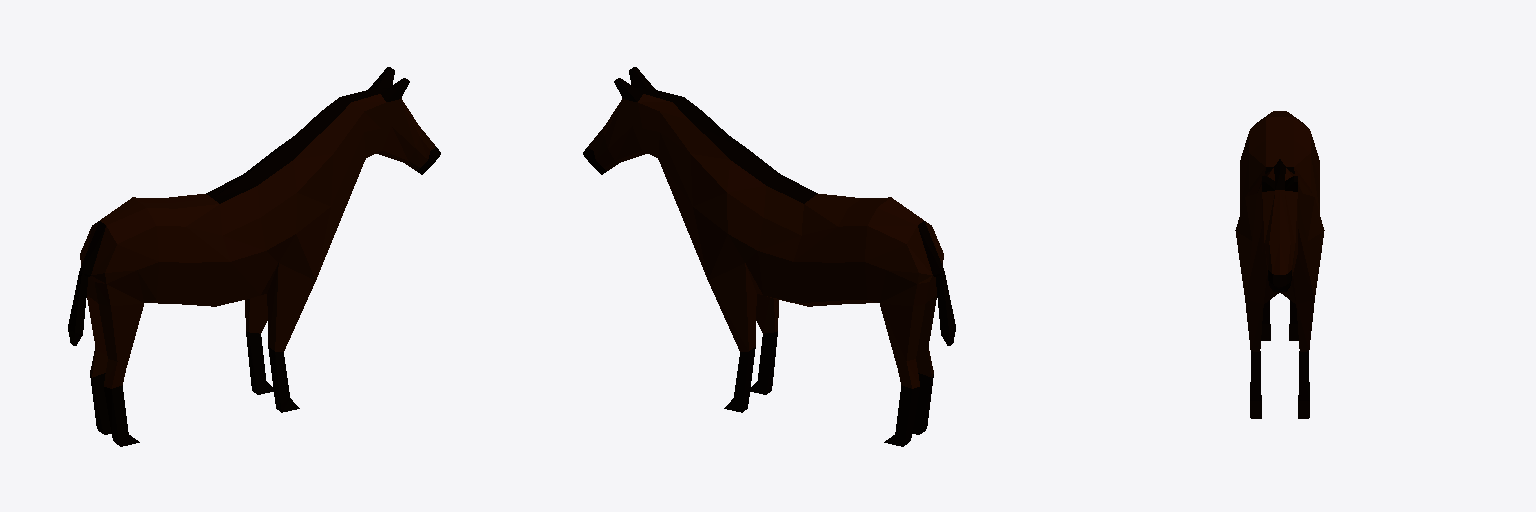
The model's file is Horse.obj.
3 views of the same model, side by side, from view 1: azimuth 30°, elevation 25°; view 2: azimuth 150°, elevation 25°; view 3: azimuth 270°, elevation 25° (orthographic).
Parts seen in each view (by area): view 1: Horse; view 2: Horse; view 3: Horse.
Boxes of the visible parts, <box> form: Horse: <box>68,67,440,446</box>; Horse: <box>583,67,955,446</box>; Horse: <box>1235,111,1324,418</box>.
Size of the model in its own units: 1.86 by 1.43 by 0.3878.